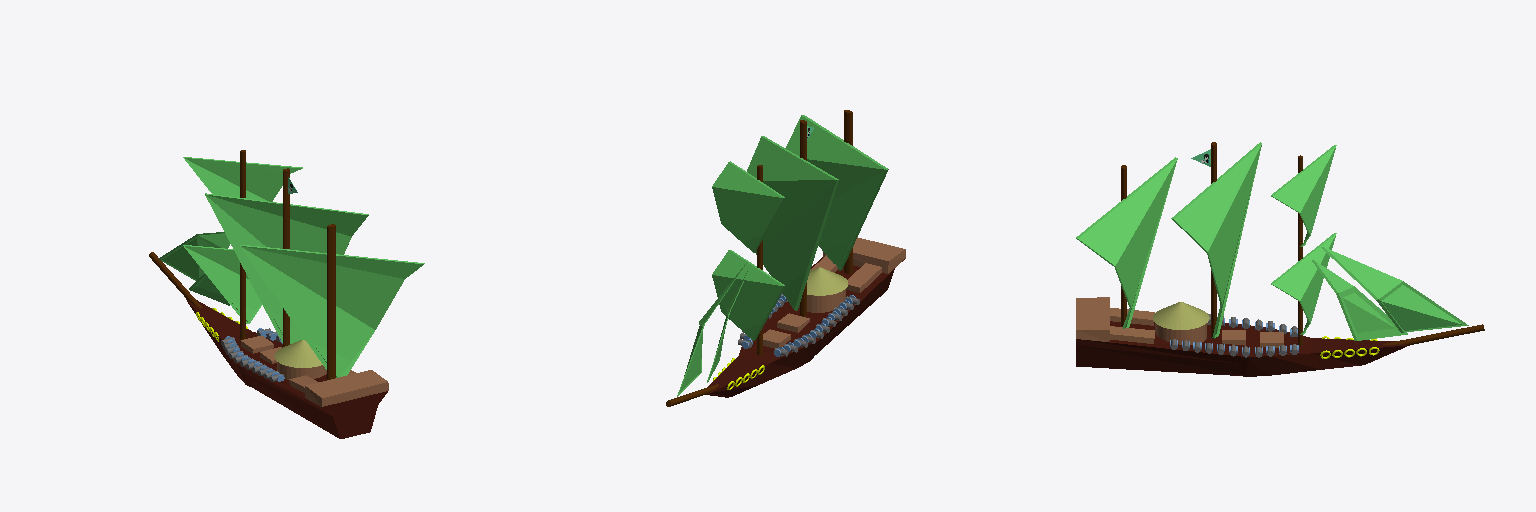
3 views of the same model, side by side, from view 1: azimuth 30°, elevation 25°; view 2: azimuth 150°, elevation 25°; view 3: azimuth 270°, elevation 25° (orthographic).
Visible parts, largest first — view 1: Cube.003_Cube.013, Cube.001_Cube.012, Cube_Cube.001, Cube.002_Cube.008, Cube.004_Cube.014, Cube.009_Cube.019, Cylinder.003_Cylinder.007, Cube.006_Cube.016, Cone, Cylinder.002_Cylinder.006, Cylinder.001_Cylinder.002; view 2: Cube.001_Cube.012, Cube.003_Cube.013, Cube_Cube.001, Cube.002_Cube.008, Cube.004_Cube.014, Cube.009_Cube.019, Cube.006_Cube.016, Cone, Cube.008_Cube.018, Cylinder.004_Cylinder.009; view 3: Cube_Cube.001, Cube.001_Cube.012, Cube.003_Cube.013, Cube.006_Cube.016, Cube.005_Cube.015, Cube.002_Cube.008, Cube.004_Cube.014, Cube.009_Cube.019, Cone, Cylinder.004_Cylinder.009, Cube.007_Cube.017, Cylinder_Cylinder.008 (+1 smaller).
Part boxes in pixels (x1,y1,x2,y2): Cube.003_Cube.013: (240, 245, 424, 377); Cube.001_Cube.012: (205, 193, 368, 343); Cube_Cube.001: (186, 299, 387, 438); Cube.002_Cube.008: (183, 157, 302, 201); Cube.004_Cube.014: (183, 245, 261, 323); Cube.009_Cube.019: (305, 370, 388, 406); Cylinder.003_Cylinder.007: (327, 224, 335, 379); Cube.006_Cube.016: (159, 232, 229, 280); Cone: (274, 340, 322, 367); Cylinder.002_Cylinder.006: (283, 168, 289, 346); Cylinder.001_Cylinder.002: (240, 150, 245, 339); Cube.001_Cube.012: (747, 136, 838, 310); Cube.003_Cube.013: (785, 115, 888, 270); Cube_Cube.001: (706, 257, 904, 397); Cube.002_Cube.008: (712, 161, 785, 252); Cube.004_Cube.014: (712, 250, 785, 340); Cube.009_Cube.019: (823, 237, 905, 273); Cube.006_Cube.016: (677, 262, 747, 396); Cone: (807, 267, 847, 295); Cube.008_Cube.018: (846, 263, 881, 292); Cylinder.004_Cylinder.009: (799, 289, 845, 312); Cube_Cube.001: (1076, 321, 1409, 376); Cube.001_Cube.012: (1171, 142, 1261, 338); Cube.003_Cube.013: (1076, 157, 1177, 328); Cube.006_Cube.016: (1321, 247, 1468, 332); Cube.005_Cube.015: (1312, 260, 1407, 340); Cube.002_Cube.008: (1271, 145, 1336, 246); Cube.004_Cube.014: (1271, 233, 1336, 334); Cube.009_Cube.019: (1076, 297, 1109, 341); Cone: (1153, 302, 1209, 329); Cylinder.004_Cylinder.009: (1155, 323, 1206, 344); Cube.007_Cube.017: (1110, 326, 1154, 343); Cylinder_Cylinder.008: (1383, 324, 1484, 344).
Size of the model in its own units: 2.24 by 3.47 by 5.8.
Materials: 10 (1 with a texture image).